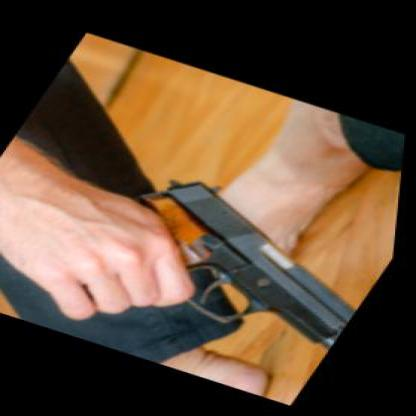pistol: (61, 160, 401, 373)
